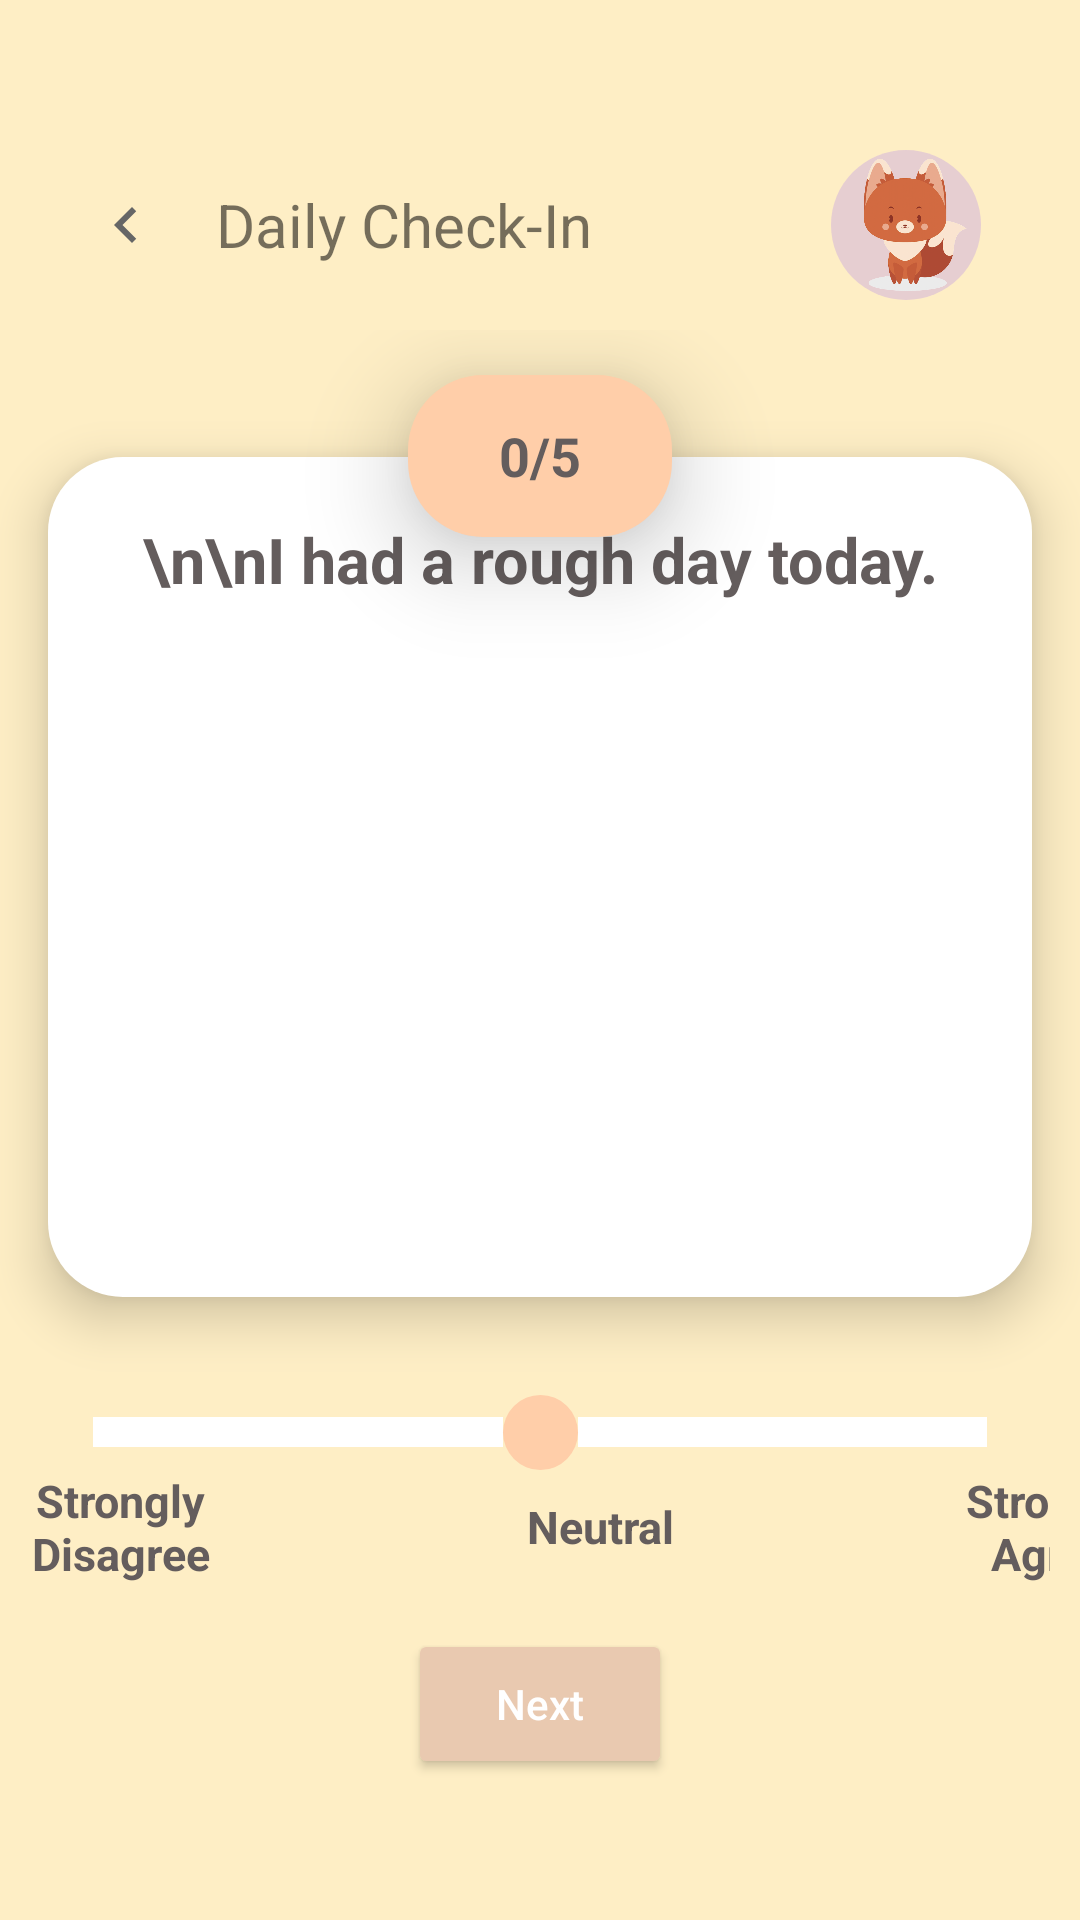

Icons on this 1080px×1920px Android screen, each with the point to tap as (x,y):
fox: (910,225)
left: (125,225)
